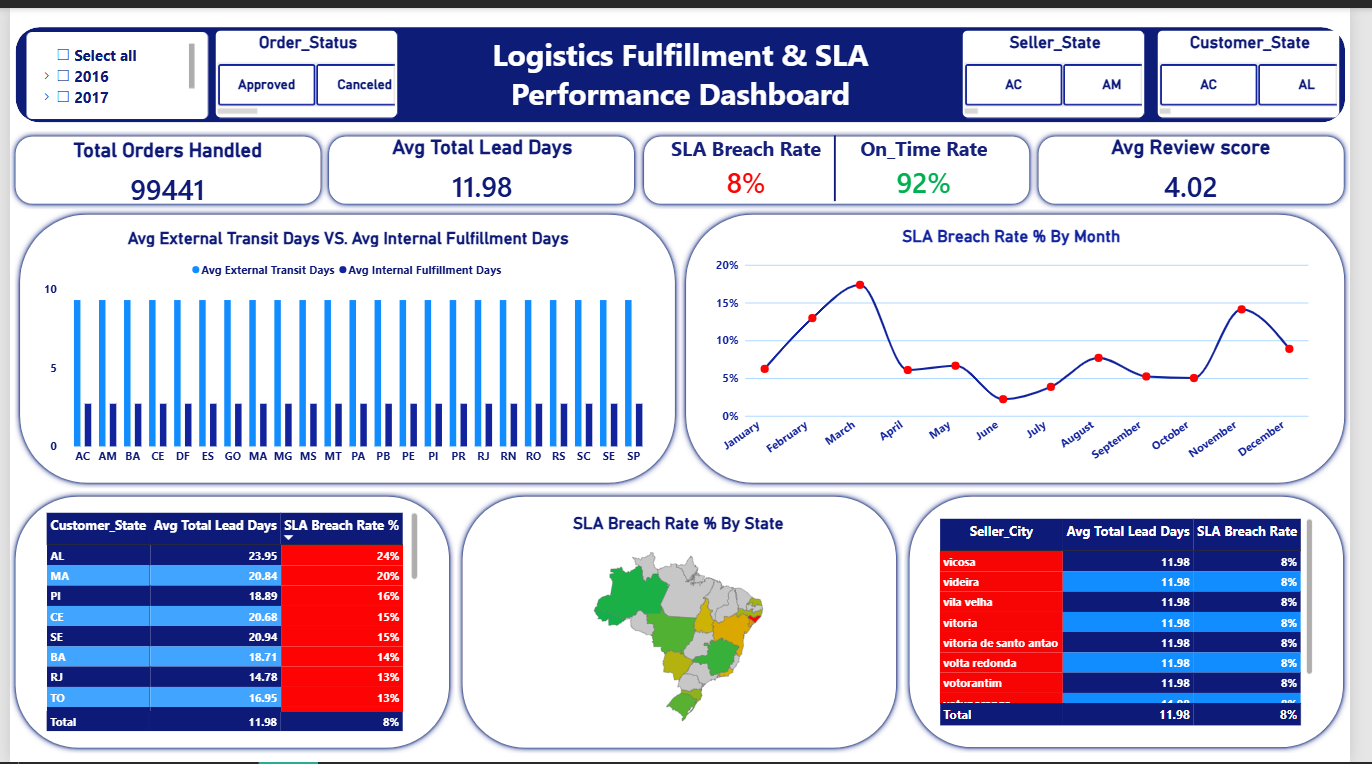

What the dashboard file says about the page in this screenshot:
{"tool":"powerbi","page":{"name":"Logistics  Performance","canvas":[1920,1080],"ordinal":0},"visuals":[{"type":"group","id":"g1","title":"Group 1","box":[0,175.7,1917.7,112.2],"z":0},{"type":"shape","box":[1281.3,692.8,637,375],"z":1000},{"type":"shape","box":[640.6,692,637,375.7],"z":2000},{"type":"shape","box":[961.3,287.9,958.8,400.1],"z":3000},{"type":"shape","box":[0,175.7,452.9,112.2],"z":4000,"group":"g1"},{"type":"shape","box":[0,692.4,637,375.7],"z":4000},{"type":"shape","box":[7.3,287.9,954,400.1],"z":5000},{"type":"shape","box":[0,19.1,1920.7,152.7],"z":6000},{"type":"shape","box":[449.9,175.7,452.9,112.2],"z":6000,"group":"g1"},{"type":"clusteredColumnChart","title":"Avg External Transit Days VS. Avg Internal Fulfillment Days","fields":{"Category":["olist_operations database olist_sellers_dataset.seller_state"],"Y":["olist_operations database olist_customers_dataset.Avg External Transit Days","olist_operations database olist_customers_dataset.Avg Internal Fulfilment Days"]},"box":[31.2,300.5,904.3,374.2],"z":7000},{"type":"shape","box":[899.8,175.7,567.7,112.2],"z":8000,"group":"g1"},{"type":"pivotTable","fields":{"Rows":["olist_operations database olist_customers_dataset.customer_state"],"Values":["Avg(olist_operations database olist_orders_dataset.Total Lead Days)","olist_operations database olist_customers_dataset.SLA Breach rate %"]},"box":[34.2,710,570.9,344],"z":8000},{"type":"cardVisual","title":"Total Orders Handled","fields":{"Data":["Count(olist_operations database olist_orders_dataset.order_id)"]},"box":[61,185.9,331.8,94.7],"z":9000},{"type":"cardVisual","title":"Avg Total Lead Days","fields":{"Data":["olist_operations database olist_customers_dataset.Avg Total Lead days"]},"box":[495.3,183,360.5,94.7],"z":10000},{"type":"lineChart","title":"SLA Breach Rate % By Month","fields":{"Category":["olist_operations database olist_orders_dataset.order_approved_at.Variation.Date Hierarchy.Month"],"Y":["olist_operations database olist_customers_dataset.SLA Breach rate %"]},"box":[993,297.7,883.2,380.6],"z":11000},{"type":"cardVisual","title":"SLA Breach Rate","fields":{"Data":["olist_operations database olist_customers_dataset.SLA Breach rate %","olist_operations database olist_customers_dataset.On_Time Rate"]},"box":[927.6,183.5,508.5,94.7],"z":12000},{"type":"advancedSlicerVisual","title":"Order_Status","fields":{"Values":["olist_operations database olist_orders_dataset.order_status"]},"box":[295.2,32.9,260,124.6],"z":13000},{"type":"shape","box":[1464.5,175.7,453.2,112.2],"z":13000,"group":"g1"},{"type":"cardVisual","title":"Avg Review score","fields":{"Data":["Avg(olist_operations database olist_order_reviews_dataset.review_score)"]},"box":[1524.7,183,332,94.8],"z":14000},{"type":"shapeMap","title":"SLA Breach Rate % By State","fields":{"Category":["olist_operations database olist_customers_dataset.BZ Sate"],"Value":["olist_operations database olist_customers_dataset.SLA Breach rate %"]},"box":[669,708.7,578.2,341.6],"z":15000},{"type":"tableEx","fields":{"Values":["olist_operations database olist_sellers_dataset.seller_city","Avg(olist_operations database olist_orders_dataset.Total Lead Days)","olist_operations database olist_customers_dataset.SLA Breach rate %"]},"box":[1315.3,717.2,566.9,326],"z":16000},{"type":"advancedSlicerVisual","title":"Customer_State","fields":{"Values":["olist_operations database olist_customers_dataset.customer_state"]},"box":[1644.4,31.7,260,124.6],"z":18000},{"type":"advancedSlicerVisual","title":"Seller_State","fields":{"Values":["olist_operations database olist_sellers_dataset.seller_state"]},"box":[1363.9,31.7,260,124.6],"z":19000},{"type":"listSlicer","fields":{"Values":["olist_operations database olist_orders_dataset.Year","olist_operations database olist_orders_dataset.Month Name","olist_operations database olist_orders_dataset.Day Number"]},"box":[22.7,34.1,260,124.4],"z":20000},{"type":"textbox","box":[556.3,36.6,807.6,119.6],"z":20500}]}

Visuals, with their boxes in screenshot pixels (x1, y1, x2, y2), scaled from the page's 1920x1080 canvas onto the 1372x764 screenshot:
"Group 1" group: select_region(0, 124, 1370, 204)
shape: select_region(916, 490, 1371, 755)
shape: select_region(458, 490, 913, 755)
shape: select_region(687, 204, 1371, 487)
shape: select_region(0, 124, 324, 204)
shape: select_region(0, 490, 455, 756)
shape: select_region(5, 204, 687, 487)
shape: select_region(0, 14, 1371, 122)
shape: select_region(321, 124, 645, 204)
"Avg External Transit Days VS. Avg Internal Fulfillment Days" clusteredColumnChart: select_region(22, 213, 668, 477)
shape: select_region(643, 124, 1049, 204)
pivotTable - olist_operations database olist_customers_dataset.customer_state x Avg(olist_operations database olist_orders_dataset.Total Lead Days): select_region(24, 502, 432, 746)
"Total Orders Handled" cardVisual: select_region(44, 132, 281, 198)
"Avg Total Lead Days" cardVisual: select_region(354, 129, 612, 196)
"SLA Breach Rate % By Month" lineChart: select_region(710, 211, 1341, 480)
"SLA Breach Rate" cardVisual: select_region(663, 130, 1026, 197)
"Order_Status" advancedSlicerVisual: select_region(211, 23, 397, 111)
shape: select_region(1047, 124, 1370, 204)
"Avg Review score" cardVisual: select_region(1090, 129, 1327, 197)
"SLA Breach Rate % By State" shapeMap: select_region(478, 501, 891, 743)
tableEx - olist_operations database olist_sellers_dataset.seller_city x Avg(olist_operations database olist_orders_dataset.Total Lead Days): select_region(940, 507, 1345, 738)
"Customer_State" advancedSlicerVisual: select_region(1175, 22, 1361, 111)
"Seller_State" advancedSlicerVisual: select_region(975, 22, 1160, 111)
listSlicer - olist_operations database olist_orders_dataset.Year x olist_operations database olist_orders_dataset.Month Name: select_region(16, 24, 202, 112)
textbox: select_region(398, 26, 975, 110)
